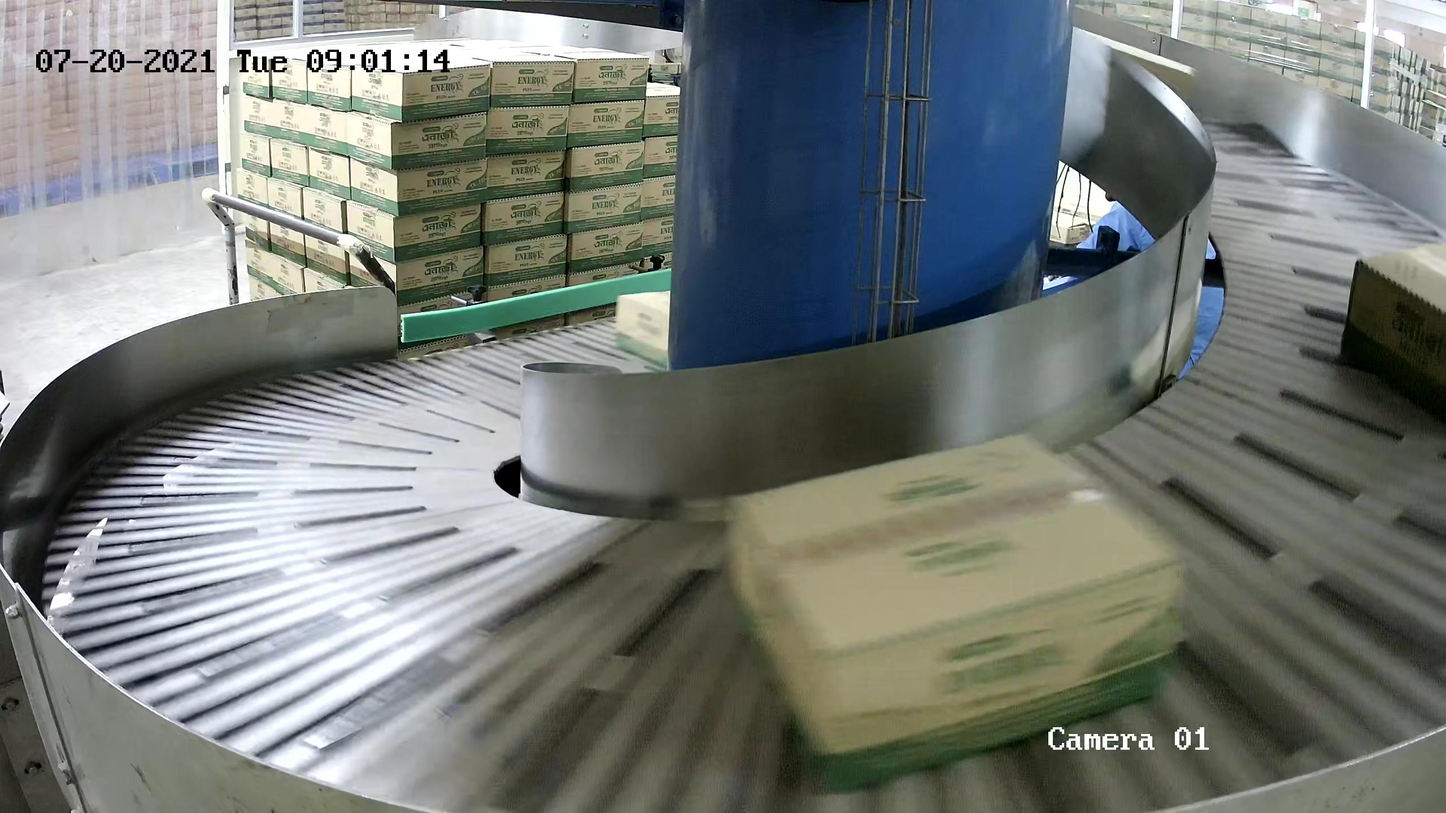Box: (725, 430, 1188, 801), (1336, 234, 1446, 433), (616, 282, 731, 373)
